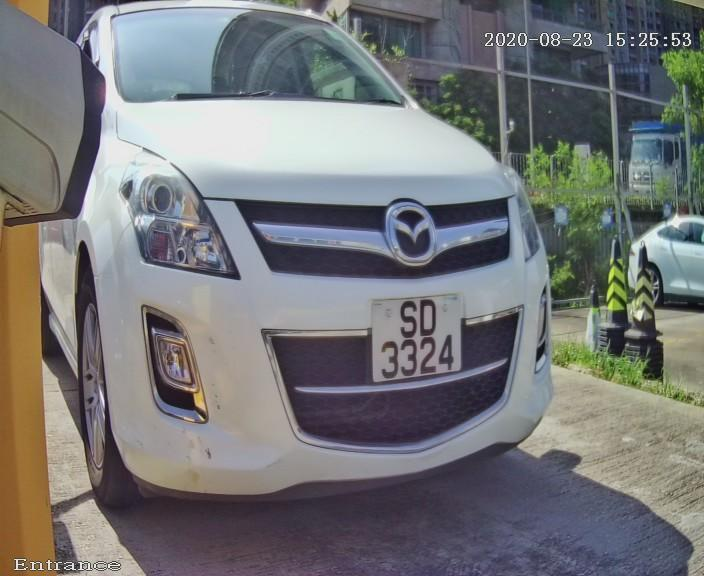Car: (38, 6, 588, 546)
License Plate: (362, 281, 472, 399)
